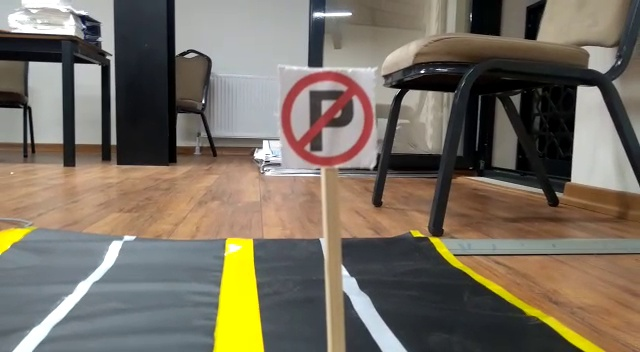park_yapilmaz: (277, 65, 374, 169)
